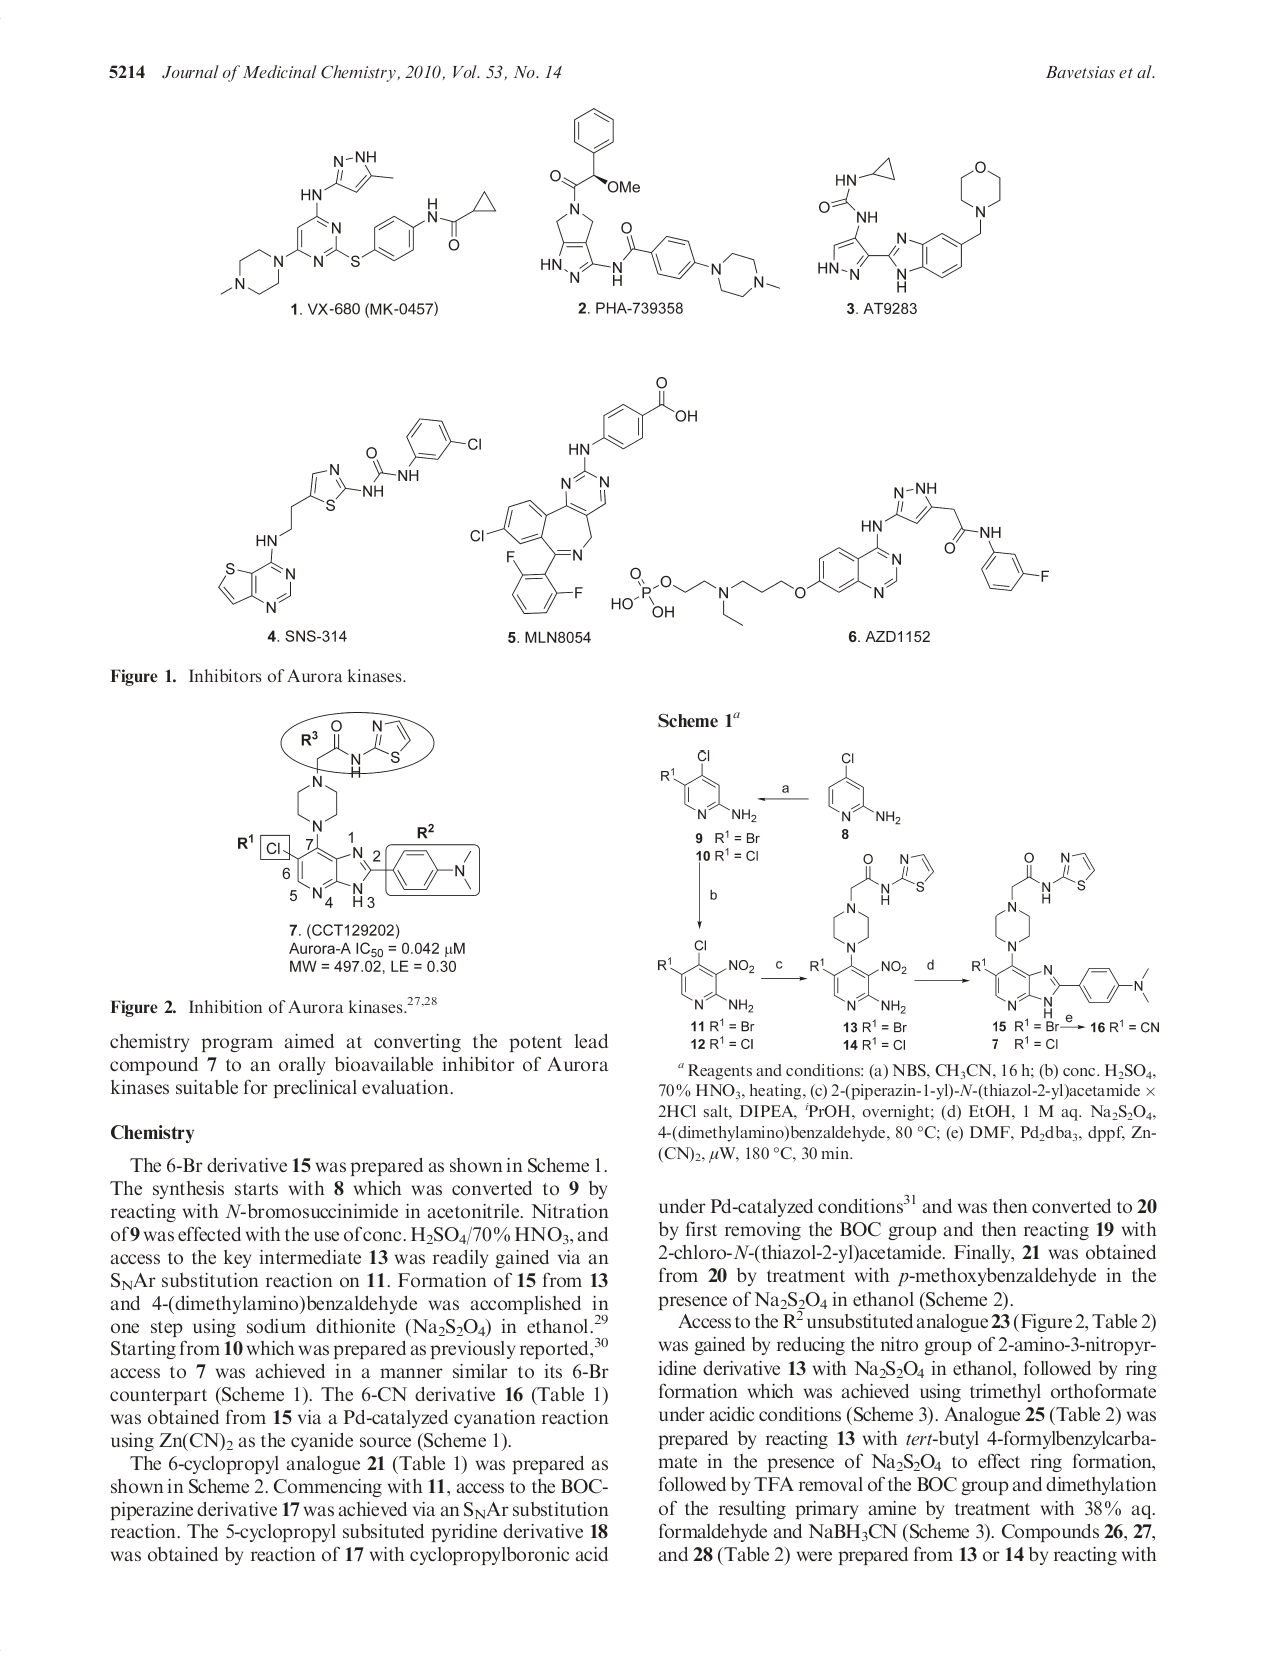exist_molecular: (469, 375, 1051, 629), (215, 410, 484, 617), (539, 106, 783, 299), (254, 713, 475, 910), (218, 146, 501, 299), (969, 848, 1156, 1017), (814, 154, 1001, 294), (809, 848, 938, 1016), (658, 747, 761, 826), (656, 939, 757, 1015), (824, 747, 902, 825)
